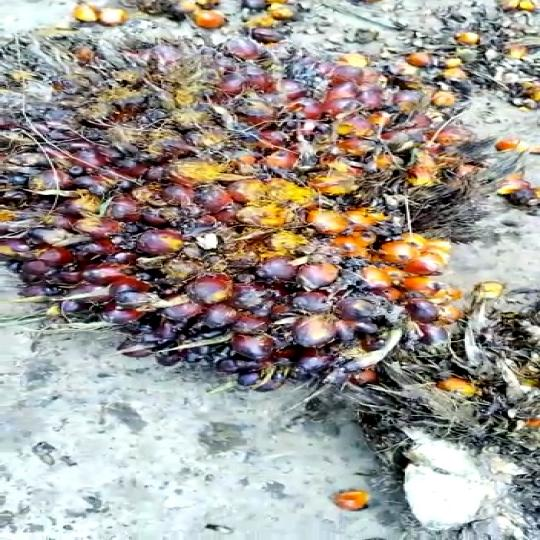masak: (0, 14, 540, 385)
